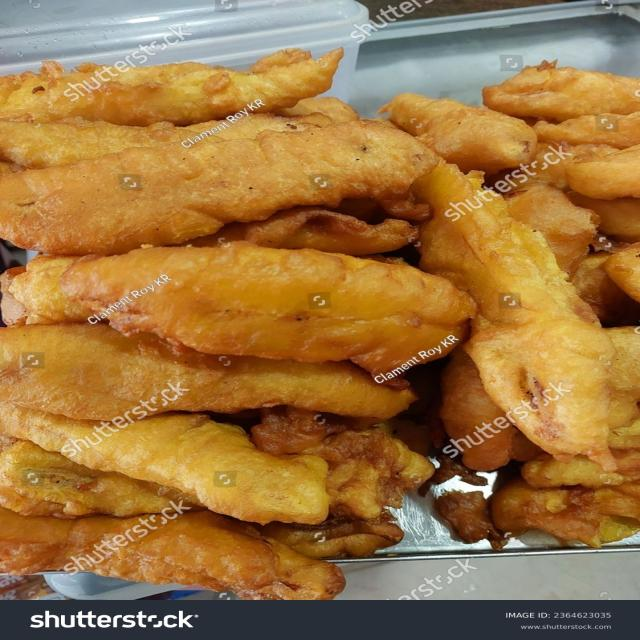BAJI: (8, 52, 639, 595)
